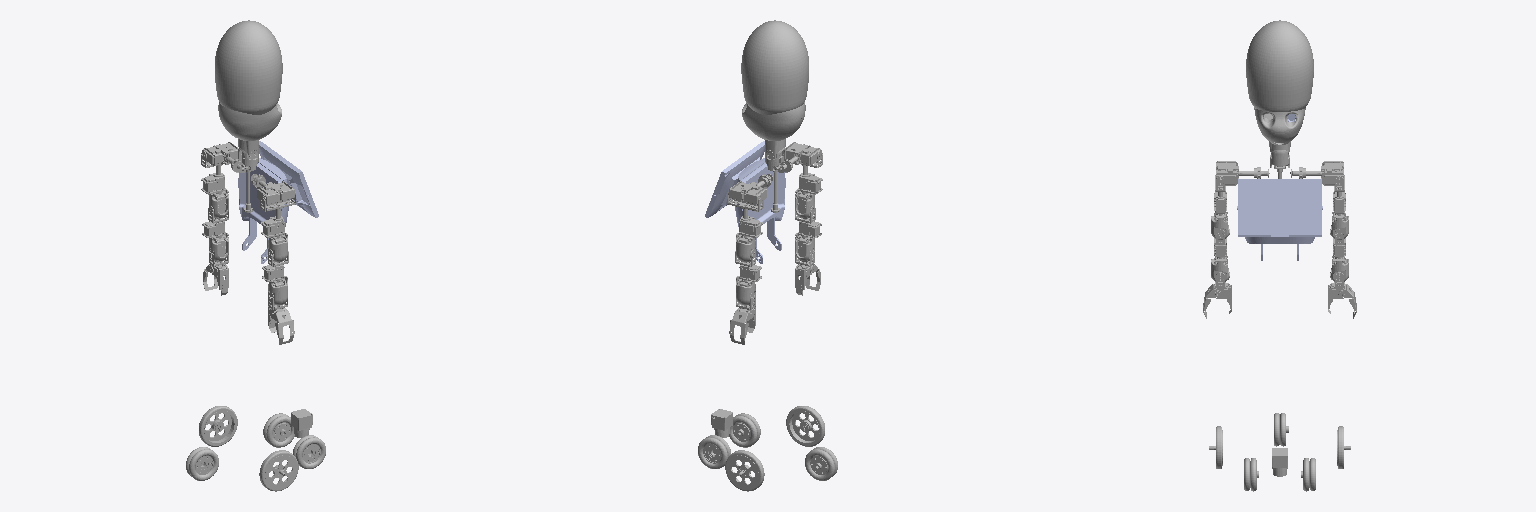
--- Render facts (derived) ---
3 views of the same robot in one strip: view 1: azimuth 30°, elevation 25°; view 2: azimuth 150°, elevation 25°; view 3: azimuth 270°, elevation 25° (orthographic).
Robot: bubot — 27 links, 26 joints (18 revolute, 5 continuous, 3 fixed); root link base_link; default pose: every joint at zero.
Visible links, largest first — view 1: head_pitch_link, tray_link, right_wheel_link, left_wheel_link, rear_wheel_link, right_front_wheel_link, left_front_wheel_link, right_arm_shoulder_pitch_link, right_arm_shoulder_roll_link, left_arm_shoulder_pitch_link, left_arm_shoulder_roll_link; view 2: head_pitch_link, tray_link, left_wheel_link, right_wheel_link, rear_wheel_link, left_front_wheel_link, right_front_wheel_link, left_arm_shoulder_pitch_link, left_arm_shoulder_roll_link, right_arm_shoulder_pitch_link, right_arm_shoulder_roll_link; view 3: head_pitch_link, tray_link, left_arm_shoulder_pitch_link, right_arm_shoulder_pitch_link.
Link boxes in pixels (x1,y1,x2,y2): head_pitch_link: (215,20,282,157); tray_link: (238,141,318,263); right_wheel_link: (259,450,298,491); left_wheel_link: (199,406,237,446); rear_wheel_link: (186,447,218,480); right_front_wheel_link: (293,435,325,468); left_front_wheel_link: (263,413,294,447); right_arm_shoulder_pitch_link: (251,174,294,205); right_arm_shoulder_roll_link: (260,187,295,237); left_arm_shoulder_pitch_link: (202,142,245,172); left_arm_shoulder_roll_link: (201,151,235,194); head_pitch_link: (741,20,808,157); tray_link: (705,141,785,263); left_wheel_link: (725,450,764,491); right_wheel_link: (786,406,824,446); rear_wheel_link: (805,447,837,480); left_front_wheel_link: (698,435,730,468); right_front_wheel_link: (729,413,760,447); left_arm_shoulder_pitch_link: (729,174,772,205); left_arm_shoulder_roll_link: (728,187,763,237); right_arm_shoulder_pitch_link: (778,142,821,172); right_arm_shoulder_roll_link: (788,151,822,194); head_pitch_link: (1246,20,1313,154); tray_link: (1237,179,1322,260); left_arm_shoulder_pitch_link: (1290,161,1343,185); right_arm_shoulder_pitch_link: (1216,161,1269,185).
Size in the robot's own frame: 0.414 by 0.4535 by 1.45 metres.
24 mesh visuals loaded from 27 distinct referenced files (24 binary STL); not drawn: 3 (reference not matched to a file when rendering).

The robot description file, URDF, robot "bubot":
<robot
  name="bubot">
  <link
    name="base_link">
    <inertial>
      <origin
        xyz="0.0060056 0.0012944 0.10706"
        rpy="0 0 0" />
      <mass
        value="17.948" />
      <inertia
        ixx="0.49516"
        ixy="0.00045593"
        ixz="0.019116"
        iyy="0.50261"
        iyz="-0.0018032"
        izz="0.28164" />
    </inertial>
    <visual>
      <origin
        xyz="0 0 0"
        rpy="0 0 0" />
      <geometry>
        <mesh
          filename="package://bubot/meshes/base_link.STL" />
      </geometry>
      <material
        name="">
        <color
          rgba="0.79216 0.81961 0.93333 1" />
      </material>
    </visual>
    <collision>
      <origin
        xyz="0 0 0"
        rpy="0 0 0" />
      <geometry>
        <mesh
          filename="package://bubot/meshes/base_link.STL" />
      </geometry>
    </collision>
  </link>
  <link
    name="left_wheel_link">
    <inertial>
      <origin
        xyz="-1.9163E-14 -1.8329E-10 0.0017023"
        rpy="0 0 0" />
      <mass
        value="0.16038" />
      <inertia
        ixx="0.00020995"
        ixy="1.023E-17"
        ixz="-2.7876E-17"
        iyy="0.00020995"
        iyz="-1.4833E-12"
        izz="0.00040782" />
    </inertial>
    <visual>
      <origin
        xyz="0 0 0"
        rpy="0 0 0" />
      <geometry>
        <mesh
          filename="package://bubot/meshes/left_wheel_link.STL" />
      </geometry>
      <material
        name="">
        <color
          rgba="0.75294 0.75294 0.75294 1" />
      </material>
    </visual>
    <collision>
      <origin
        xyz="0 0 0"
        rpy="0 0 0" />
      <geometry>
        <mesh
          filename="package://bubot/meshes/left_wheel_link.STL" />
      </geometry>
    </collision>
  </link>
  <joint
    name="left_wheel_joint"
    type="continuous">
    <origin
      xyz="0 0.1795 -0.08143"
      rpy="1.5708 0 -3.1416" />
    <parent
      link="base_link" />
    <child
      link="left_wheel_link" />
    <axis
      xyz="0 0 1" />
    <limit
      effort="1"
      velocity="1" />
    <dynamics
      damping="0"
      friction="0" />
    <safety_controller
      k_position="0"
      k_velocity="0" />
  </joint>
  <link
    name="right_wheel_link">
    <inertial>
      <origin
        xyz="-1.9088E-14 -1.8329E-10 0.0017023"
        rpy="0 0 0" />
      <mass
        value="0.16038" />
      <inertia
        ixx="0.00020995"
        ixy="1.023E-17"
        ixz="-2.7866E-17"
        iyy="0.00020995"
        iyz="-1.4833E-12"
        izz="0.00040782" />
    </inertial>
    <visual>
      <origin
        xyz="0 0 0"
        rpy="0 0 0" />
      <geometry>
        <mesh
          filename="package://bubot/meshes/right_wheel_link.STL" />
      </geometry>
      <material
        name="">
        <color
          rgba="0.75294 0.75294 0.75294 1" />
      </material>
    </visual>
    <collision>
      <origin
        xyz="0 0 0"
        rpy="0 0 0" />
      <geometry>
        <mesh
          filename="package://bubot/meshes/right_wheel_link.STL" />
      </geometry>
    </collision>
  </link>
  <joint
    name="right_wheel_joint"
    type="continuous">
    <origin
      xyz="0 -0.1795 -0.08143"
      rpy="1.5708 0 5.1619E-17" />
    <parent
      link="base_link" />
    <child
      link="right_wheel_link" />
    <axis
      xyz="0 0 -1" />
    <limit
      effort="1"
      velocity="1" />
    <dynamics
      damping="0"
      friction="0" />
    <safety_controller
      k_position="0"
      k_velocity="0" />
  </joint>
  <link
    name="left_front_wheel_link">
    <inertial>
      <origin
        xyz="-2.7756E-17 0 -0.0018426"
        rpy="0 0 0" />
      <mass
        value="0.29253" />
      <inertia
        ixx="0.00018232"
        ixy="-8.4893E-21"
        ixz="3.0806E-20"
        iyy="0.00018232"
        iyz="-2.2066E-21"
        izz="0.00031096" />
    </inertial>
    <visual>
      <origin
        xyz="0 0 0"
        rpy="0 0 0" />
      <geometry>
        <mesh
          filename="package://bubot/meshes/left_front_wheel_link.STL" />
      </geometry>
      <material
        name="">
        <color
          rgba="0.75294 0.75294 0.75294 1" />
      </material>
    </visual>
    <collision>
      <origin
        xyz="0 0 0"
        rpy="0 0 0" />
      <geometry>
        <mesh
          filename="package://bubot/meshes/left_front_wheel_link.STL" />
      </geometry>
    </collision>
  </link>
  <joint
    name="left_front_wheel_joint"
    type="continuous">
    <origin
      xyz="0.157 0.0873 -0.09493"
      rpy="1.5708 0 -3.1416" />
    <parent
      link="base_link" />
    <child
      link="left_front_wheel_link" />
    <axis
      xyz="0 0 1" />
    <dynamics
      damping="0"
      friction="0" />
  </joint>
  <link
    name="right_front_wheel_link">
    <inertial>
      <origin
        xyz="0 1.3878E-17 -0.0018426"
        rpy="0 0 0" />
      <mass
        value="0.29253" />
      <inertia
        ixx="0.00018232"
        ixy="-8.0805E-21"
        ixz="-1.2719E-22"
        iyy="0.00018232"
        iyz="-1.2317E-21"
        izz="0.00031096" />
    </inertial>
    <visual>
      <origin
        xyz="0 0 0"
        rpy="0 0 0" />
      <geometry>
        <mesh
          filename="package://bubot/meshes/right_front_wheel_link.STL" />
      </geometry>
      <material
        name="">
        <color
          rgba="0.75294 0.75294 0.75294 1" />
      </material>
    </visual>
    <collision>
      <origin
        xyz="0 0 0"
        rpy="0 0 0" />
      <geometry>
        <mesh
          filename="package://bubot/meshes/right_front_wheel_link.STL" />
      </geometry>
    </collision>
  </link>
  <joint
    name="right_front_wheel_joint"
    type="continuous">
    <origin
      xyz="0.157 -0.0873 -0.09493"
      rpy="1.5708 0 0" />
    <parent
      link="base_link" />
    <child
      link="right_front_wheel_link" />
    <axis
      xyz="0 0 -1" />
    <dynamics
      damping="0"
      friction="0" />
  </joint>
  <link
    name="rear_wheel_link">
    <inertial>
      <origin
        xyz="-2.7756E-17 1.3878E-17 0.0018426"
        rpy="0 0 0" />
      <mass
        value="0.29253" />
      <inertia
        ixx="0.00018232"
        ixy="5.7276E-21"
        ixz="-3.5642E-20"
        iyy="0.00018232"
        iyz="2.7598E-20"
        izz="0.00031096" />
    </inertial>
    <visual>
      <origin
        xyz="0 0 0"
        rpy="0 0 0" />
      <geometry>
        <mesh
          filename="package://bubot/meshes/rear_wheel_link.STL" />
      </geometry>
      <material
        name="">
        <color
          rgba="0.75294 0.75294 0.75294 1" />
      </material>
    </visual>
    <collision>
      <origin
        xyz="0 0 0"
        rpy="0 0 0" />
      <geometry>
        <mesh
          filename="package://bubot/meshes/rear_wheel_link.STL" />
      </geometry>
    </collision>
  </link>
  <joint
    name="rear_wheel_joint"
    type="continuous">
    <origin
      xyz="-0.157 0 -0.09493"
      rpy="1.5708 0 3.1416" />
    <parent
      link="base_link" />
    <child
      link="rear_wheel_link" />
    <axis
      xyz="0 0 1" />
    <dynamics
      damping="0"
      friction="0" />
  </joint>
  <link
    name="front_laser_mountpoint_link">
    <inertial>
      <origin
        xyz="-7.8883E-05 -5.6061E-05 -0.031605"
        rpy="0 0 0" />
      <mass
        value="0.14229" />
      <inertia
        ixx="7.9975E-05"
        ixy="7.5633E-08"
        ixz="2.6339E-08"
        iyy="8.0169E-05"
        iyz="1.9908E-07"
        izz="4.9028E-05" />
    </inertial>
    <visual>
      <origin
        xyz="0 0 0"
        rpy="0 0 0" />
      <geometry>
        <mesh
          filename="package://bubot/meshes/front_laser_mountpoint_link.STL" />
      </geometry>
      <material
        name="">
        <color
          rgba="0.75294 0.75294 0.75294 1" />
      </material>
    </visual>
    <collision>
      <origin
        xyz="0 0 0"
        rpy="0 0 0" />
      <geometry>
        <mesh
          filename="package://bubot/meshes/front_laser_mountpoint_link.STL" />
      </geometry>
    </collision>
  </link>
  <joint
    name="front_laser_mountpoint_joint"
    type="fixed">
    <origin
      xyz="0.181 0 -0.01"
      rpy="-1.5177E-16 3.4738E-16 -5.3596E-15" />
    <parent
      link="base_link" />
    <child
      link="front_laser_mountpoint_link" />
    <axis
      xyz="0 0 0" />
  </joint>
  <link
    name="torso_yaw_link">
    <inertial>
      <origin
        xyz="-0.021184 3.706E-05 0.13425"
        rpy="0 0 0" />
      <mass
        value="15.384" />
      <inertia
        ixx="0.50207"
        ixy="-4.4759E-06"
        ixz="-0.036488"
        iyy="0.46607"
        iyz="9.7091E-05"
        izz="0.12009" />
    </inertial>
    <visual>
      <origin
        xyz="0 0 0"
        rpy="0 0 0" />
      <geometry>
        <mesh
          filename="package://bubot/meshes/torso_yaw_link.STL" />
      </geometry>
      <material
        name="">
        <color
          rgba="0.79216 0.81961 0.93333 1" />
      </material>
    </visual>
    <collision>
      <origin
        xyz="0 0 0"
        rpy="0 0 0" />
      <geometry>
        <mesh
          filename="package://bubot/meshes/torso_yaw_link.STL" />
      </geometry>
    </collision>
  </link>
  <joint
    name="torso_yaw_joint"
    type="revolute">
    <origin
      xyz="0 0 0.5265"
      rpy="6.9887E-17 0 0" />
    <parent
      link="base_link" />
    <child
      link="torso_yaw_link" />
    <axis
      xyz="0 0 1" />
    <limit
      lower="-1.5708"
      upper="1.5708"
      effort="1"
      velocity="1" />
    <dynamics
      damping="0"
      friction="0" />
    <safety_controller
      soft_upper="1.5708"
      soft_lower="-1.5708"
      k_position="0"
      k_velocity="0" />
  </joint>
  <link
    name="tray_link">
    <inertial>
      <origin
        xyz="0.18048 0.062172 0.00072834"
        rpy="0 0 0" />
      <mass
        value="2.9807" />
      <inertia
        ixx="0.014224"
        ixy="-0.001329"
        ixz="-5.3726E-05"
        iyy="0.019495"
        iyz="-7.4868E-05"
        izz="0.011613" />
    </inertial>
    <visual>
      <origin
        xyz="0 0 0"
        rpy="0 0 0" />
      <geometry>
        <mesh
          filename="package://bubot/meshes/tray_link.STL" />
      </geometry>
      <material
        name="">
        <color
          rgba="0.79216 0.81961 0.93333 1" />
      </material>
    </visual>
    <collision>
      <origin
        xyz="0 0 0"
        rpy="0 0 0" />
      <geometry>
        <mesh
          filename="package://bubot/meshes/tray_link.STL" />
      </geometry>
    </collision>
  </link>
  <joint
    name="tray_joint"
    type="revolute">
    <origin
      xyz="0.02548 0 0.028"
      rpy="-1.5708 -1.5708 0" />
    <parent
      link="torso_yaw_link" />
    <child
      link="tray_link" />
    <axis
      xyz="0 0 1" />
    <limit
      lower="0"
      upper="1.5708"
      effort="1"
      velocity="1" />
    <dynamics
      damping="0"
      friction="0" />
    <safety_controller
      soft_upper="1.5708"
      soft_lower="0"
      k_position="0"
      k_velocity="0" />
  </joint>
  <link
    name="head_yaw_link">
    <inertial>
      <origin
        xyz="0.0016155 -3.2919E-05 0.0099766"
        rpy="0 0 0" />
      <mass
        value="0.18647" />
      <inertia
        ixx="0.0007178"
        ixy="-1.2143E-08"
        ixz="-9.3422E-06"
        iyy="0.00071091"
        iyz="-1.3067E-07"
        izz="5.101E-05" />
    </inertial>
    <visual>
      <origin
        xyz="0 0 0"
        rpy="0 0 0" />
      <geometry>
        <mesh
          filename="package://bubot/meshes/head_yaw_link.STL" />
      </geometry>
      <material
        name="">
        <color
          rgba="0.75294 0.75294 0.75294 1" />
      </material>
    </visual>
    <collision>
      <origin
        xyz="0 0 0"
        rpy="0 0 0" />
      <geometry>
        <mesh
          filename="package://bubot/meshes/head_yaw_link.STL" />
      </geometry>
    </collision>
  </link>
  <joint
    name="head_yaw_joint"
    type="revolute">
    <origin
      xyz="0 0 0.30737"
      rpy="-1.0768E-14 -6.4549E-15 1.2056E-16" />
    <parent
      link="torso_yaw_link" />
    <child
      link="head_yaw_link" />
    <axis
      xyz="0 0 1" />
    <limit
      lower="-1.5708"
      upper="1.5708"
      effort="1"
      velocity="1" />
    <dynamics
      damping="0"
      friction="0" />
    <safety_controller
      soft_upper="1.5708"
      soft_lower="-1.5708"
      k_position="0"
      k_velocity="0" />
  </joint>
  <link
    name="head_pitch_link">
    <inertial>
      <origin
        xyz="0.25102 0.0013554 -0.00012288"
        rpy="0 0 0" />
      <mass
        value="5.5892" />
      <inertia
        ixx="0.028845"
        ixy="0.0013948"
        ixz="-5.5005E-05"
        iyy="0.061422"
        iyz="-9.1334E-06"
        izz="0.062798" />
    </inertial>
    <visual>
      <origin
        xyz="0 0 0"
        rpy="0 0 0" />
      <geometry>
        <mesh
          filename="package://bubot/meshes/head_pitch_link.STL" />
      </geometry>
      <material
        name="">
        <color
          rgba="0.75294 0.75294 0.75294 1" />
      </material>
    </visual>
    <collision>
      <origin
        xyz="0 0 0"
        rpy="0 0 0" />
      <geometry>
        <mesh
          filename="package://bubot/meshes/head_pitch_link.STL" />
      </geometry>
    </collision>
  </link>
  <joint
    name="head_pitch_joint"
    type="revolute">
    <origin
      xyz="0 0 0.0545"
      rpy="-1.5708 -1.5708 0" />
    <parent
      link="head_yaw_link" />
    <child
      link="head_pitch_link" />
    <axis
      xyz="0 0 1" />
    <limit
      lower="-1.5708"
      upper="1.5708"
      effort="1"
      velocity="1" />
    <dynamics
      damping="0"
      friction="0" />
    <safety_controller
      soft_upper="1.5708"
      soft_lower="-1.5708"
      k_position="0"
      k_velocity="0" />
  </joint>
  <link
    name="left_camera_link">
    <inertial>
      <origin
        xyz="-0.0031287 5.7933E-09 -0.0015198"
        rpy="0 0 3.14159265359" />
      <mass
        value="0.040493" />
      <inertia
        ixx="5.3E-06"
        ixy="3.0082E-12"
        ixz="-4.2097E-07"
        iyy="1.3095E-05"
        iyz="2.9511E-12"
        izz="1.1942E-05" />
    </inertial>
    <visual>
      <origin
        xyz="0 0 0"
        rpy="0 0 0" />
      <geometry>
        <mesh
          filename="package://bubot/meshes/left_camera_link.STL" />
      </geometry>
      <material
        name="">
        <color
          rgba="0.79216 0.81961 0.93333 1" />
      </material>
    </visual>
    <collision>
      <origin
        xyz="0 0 0"
        rpy="0 0 0" />
      <geometry>
        <mesh
          filename="package://bubot/meshes/left_camera_link.STL" />
      </geometry>
    </collision>
  </link>
  <joint
    name="left_camera_joint"
    type="fixed">
    <origin
      xyz="0.13677 0.0399 0.034249"
      rpy="1.5708 -1.0617E-14 1.5708" />
    <parent
      link="head_pitch_link" />
    <child
      link="left_camera_link" />
    <axis
      xyz="0 0 0" />
  </joint>
  <link
    name="right_camera_link">
    <inertial>
      <origin
        xyz="-0.0031287 5.7933E-09 -0.0015198"
        rpy="0 0 3.14159265359" />
      <mass
        value="0.040493" />
      <inertia
        ixx="5.3E-06"
        ixy="3.0082E-12"
        ixz="-4.2097E-07"
        iyy="1.3095E-05"
        iyz="2.9511E-12"
        izz="1.1942E-05" />
    </inertial>
    <visual>
      <origin
        xyz="0 0 0"
        rpy="0 0 0" />
      <geometry>
        <mesh
          filename="package://bubot/meshes/right_camera_link.STL" />
      </geometry>
      <material
        name="">
        <color
          rgba="0.79216 0.81961 0.93333 1" />
      </material>
    </visual>
    <collision>
      <origin
        xyz="0 0 0"
        rpy="0 0 0" />
      <geometry>
        <mesh
          filename="package://bubot/meshes/right_camera_link.STL" />
      </geometry>
    </collision>
  </link>
  <joint
    name="right_camera_joint"
    type="fixed">
    <origin
      xyz="0.13677 0.0399 -0.034249"
      rpy="1.5708 -1.0617E-14 1.5708" />
    <parent
      link="head_pitch_link" />
    <child
      link="right_camera_link" />
    <axis
      xyz="0 0 0" />
  </joint>
  <link
    name="left_arm_shoulder_pitch_link">
    <inertial>
      <origin
        xyz="-2.122E-05 2.4768E-06 -0.041341"
        rpy="0 0 0" />
      <mass
        value="0.29178" />
      <inertia
        ixx="0.0005532"
        ixy="-8.0349E-09"
        ixz="-4.1962E-07"
        iyy="0.00066579"
        iyz="4.5355E-08"
        izz="0.0001665" />
    </inertial>
    <visual>
      <origin
        xyz="0 0 0"
        rpy="0 0 0" />
      <geometry>
        <mesh
          filename="package://bubot/meshes/left_arm_shoulder_pitch_link.STL" />
      </geometry>
      <material
        name="">
        <color
          rgba="0.75294 0.75294 0.75294 1" />
      </material>
    </visual>
    <collision>
      <origin
        xyz="0 0 0"
        rpy="0 0 0" />
      <geometry>
        <mesh
          filename="package://bubot/meshes/left_arm_shoulder_pitch_link.STL" />
      </geometry>
    </collision>
  </link>
  <joint
    name="left_arm_shoulder_pitch_joint"
    type="revolute">
    <origin
      xyz="0 0.17524 0.28577"
      rpy="-1.5708 -1.1297E-30 1.6342E-16" />
    <parent
      link="torso_yaw_link" />
    <child
      link="left_arm_shoulder_pitch_link" />
    <axis
      xyz="0 0 1" />
    <limit
      lower="-1.5708"
      upper="1.5708"
      effort="1"
      velocity="1" />
    <dynamics
      damping="0"
      friction="0" />
    <safety_controller
      soft_upper="1.5708"
      soft_lower="-1.5708"
      k_position="0"
      k_velocity="0" />
  </joint>
  <link
    name="left_arm_shoulder_roll_link">
    <inertial>
      <origin
        xyz="0.074935 1.8521E-06 -0.0093573"
        rpy="0 0 0" />
      <mass
        value="0.14822" />
      <inertia
        ixx="0.00010843"
        ixy="-5.875E-09"
        ixz="3.5714E-05"
        iyy="0.00028771"
        iyz="4.4939E-10"
        izz="0.00020531" />
    </inertial>
    <visual>
      <origin
        xyz="0 0 0"
        rpy="0 0 0" />
      <geometry>
        <mesh
          filename="package://bubot/meshes/left_arm_shoulder_roll_link.STL" />
      </geometry>
      <material
        name="">
        <color
          rgba="0.75294 0.75294 0.75294 1" />
      </material>
    </visual>
    <collision>
      <origin
        xyz="0 0 0"
        rpy="0 0 0" />
      <geometry>
        <mesh
          filename="package://bubot/meshes/left_arm_shoulder_roll_link.STL" />
      </geometry>
    </collision>
  </link>
  <joint
    name="left_arm_shoulder_roll_joint"
    type="revolute">
    <origin
      xyz="0 0 0"
      rpy="1.5708 8.1332E-14 1.5708" />
    <parent
      link="left_arm_shoulder_pitch_link" />
    <child
      link="left_arm_shoulder_roll_link" />
    <axis
      xyz="0 0 1" />
    <limit
      lower="-0.8"
      upper="1.5708"
      effort="1"
      velocity="1" />
    <dynamics
      damping="0"
      friction="0" />
    <safety_controller
      soft_upper="1.5708"
      soft_lower="-0.8"
      k_position="0"
      k_velocity="0" />
  </joint>
  <link
    name="left_arm_shoulder_yaw_link">
    <inertial>
      <origin
        xyz="-4.019E-05 -0.0019724 0.038913"
        rpy="0 0 0" />
      <mass
        value="0.15273" />
      <inertia
        ixx="0.00010879"
        ixy="1.4334E-08"
        ixz="-2.9294E-07"
        iyy="0.00011571"
        iyz="1.3784E-06"
        izz="5.0354E-05" />
    </inertial>
    <visual>
      <origin
        xyz="0 0 0"
        rpy="0 0 0" />
      <geometry>
        <mesh
          filename="package://bubot/meshes/left_arm_shoulder_yaw_link.STL" />
      </geometry>
      <material
        name="">
        <color
          rgba="0.75294 0.75294 0.75294 1" />
      </material>
    </visual>
    <collision>
      <origin
        xyz="0 0 0"
        rpy="0 0 0" />
      <geometry>
        <mesh
          filename="package://bubot/meshes/left_arm_shoulder_yaw_link.STL" />
      </geometry>
    </collision>
  </link>
  <joint
    name="left_arm_shoulder_yaw_joint"
    type="revolute">
    <origin
      xyz="0.1284 0 0"
      rpy="3.14159265359 -1.5708 0" />
    <parent
      link="left_arm_shoulder_roll_link" />
    <child
      link="left_arm_shoulder_yaw_link" />
    <axis
      xyz="0 0 -1" />
    <limit
      lower="-1.5708"
      upper="1.5708"
      effort="1"
      velocity="1" />
    <dynamics
      damping="0"
      friction="0" />
    <safety_controller
      soft_upper="1.5708"
      soft_lower="-1.5708"
      k_position="0"
      k_velocity="0" />
  </joint>
  <link
    name="left_arm_elbow_roll_link">
    <inertial>
      <origin
        xyz="0.055421 -1.7469E-07 -0.013348"
        rpy="0 0 0" />
      <mass
        value="0.22514" />
      <inertia
        ixx="9.0356E-05"
        ixy="-5.4289E-10"
        ixz="1.6021E-05"
        iyy="0.00015029"
        iyz="2.451E-10"
        izz="9.9881E-05" />
    </inertial>
    <visual>
      <origin
        xyz="0 0 0"
        rpy="0 0 0" />
      <geometry>
        <mesh
          filename="package://bubot/meshes/left_arm_elbow_roll_link.STL" />
      </geometry>
      <material
        name="">
        <color
          rgba="0.75294 0.75294 0.75294 1" />
      </material>
    </visual>
    <collision>
      <origin
        xyz="0 0 0"
        rpy="0 0 0" />
      <geometry>
        <mesh
          filename="package://bubot/meshes/left_arm_elbow_roll_link.STL" />
      </geometry>
    </collision>
  </link>
  <joint
    name="left_arm_elbow_roll_joint"
    type="revolute">
    <origin
      xyz="0 0 0.057"
      rpy="3.14159265359 -1.5708 0" />
    <parent
      link="left_arm_shoulder_yaw_link" />
    <child
      link="left_arm_elbow_roll_link" />
    <axis
      xyz="0 0 1" />
    <limit
      lower="-1.5708"
      upper="1.5708"
      effort="1"
      velocity="1" />
    <dynamics
      damping="0"
      friction="0" />
    <safety_controller
      soft_upper="1.5708"
      soft_lower="-1.5708"
      k_position="0"
      k_velocity="0" />
  </joint>
  <link
    name="left_arm_forearm_yaw_link">
    <inertial>
      <origin
        xyz="-6.6971E-05 -0.0011647 0.037801"
        rpy="0 0 0" />
      <mass
        value="0.25891" />
      <inertia
        ixx="0.00013931"
        ixy="2.0254E-08"
        ixz="-7.1562E-07"
        iyy="0.00014955"
        iyz="9.416E-07"
        izz="7.1991E-05" />
    </inertial>
    <visual>
      <origin
        xyz="0 0 0"
        rpy="0 0 0" />
      <geometry>
        <mesh
          filename="package://bubot/meshes/left_arm_forearm_yaw_link.STL" />
      </geometry>
      <material
        name="">
        <color
          rgba="0.75294 0.75294 0.75294 1" />
      </material>
    </visual>
    <collision>
      <origin
        xyz="0 0 0"
        rpy="0 0 0" />
      <geometry>
        <mesh
          filename="package://bubot/meshes/left_arm_forearm_yaw_link.STL" />
      </geometry>
    </collision>
  </link>
  <joint
    name="left_arm_forearm_yaw_joint"
    type="revolute">
    <origin
      xyz="0.0859 0 0"
      rpy="3.14159265359 -1.5708 0" />
    <parent
      link="left_arm_elbow_roll_link" />
    <child
      link="left_arm_forearm_yaw_link" />
    <axis
      xyz="0 0 -1" />
    <limit
      lower="-1.5708"
      upper="1.5708"
      effort="1"
      velocity="1" />
    <dynamics
      damping="0"
      friction="0" />
    <safety_controller
      soft_upper="1.5708"
      soft_lower="-1.5708"
      k_position="0"
      k_velocity="0" />
  </joint>
  <link
    name="left_arm_wrist_roll_link">
    <inertial>
      <origin
        xyz="0.052471 -0.0052782 -5.4707E-05"
        rpy="0 0 0" />
      <mass
        value="0.16057" />
      <inertia
        ixx="5.9955E-05"
        ixy="1.5477E-05"
        ixz="-2.4925E-07"
        iyy="9.4951E-05"
        iyz="-4.601E-07"
        izz="0.00010267" />
    </inertial>
    <visual>
      <origin
        xyz="0 0 0"
        rpy="0 0 0" />
      <geometry>
        <mesh
          filename="package://bubot/meshes/left_arm_wrist_roll_link.STL" />
      </geometry>
      <material
        name="">
        <color
          rgba="0.75294 0.75294 0.75294 1" />
      </material>
    </visual>
    <collision>
      <origin
        xyz="0 0 0"
        rpy="0 0 0" />
      <geometry>
        <mesh
          filename="package://bubot/meshes/left_arm_wrist_roll_link.STL" />
      </geometry>
    </collision>
  </link>
  <joint
    name="left_arm_wrist_roll_joint"
    type="revolute">
    <origin
      xyz="0 0 0.0545"
      rpy="3.14159265359 -1.5708 0" />
    <parent
      link="left_arm_forearm_yaw_link" />
    <child
      link="left_arm_wrist_roll_link" />
    <axis
      xyz="0 0 1" />
    <limit
      lower="-1.5708"
      upper="1.5708"
      effort="1"
      velocity="1" />
    <dynamics
      damping="0"
      friction="0" />
    <safety_controller
      soft_upper="1.5708"
      soft_lower="-1.5708"
      k_position="0"
      k_velocity="0" />
  </joint>
  <link
    name="left_gripper_link">
    <inertial>
      <origin
        xyz="0.033325 0.0061458 -0.00099123"
        rpy="0 0 0" />
      <mass
        value="0.025912" />
      <inertia
        ixx="1.3172E-05"
        ixy="4.9505E-06"
        ixz="-8.5595E-07"
        iyy="2.8112E-05"
        iyz="-1.5785E-07"
        izz="2.2617E-05" />
    </inertial>
    <visual>
      <origin
        xyz="0 0 0"
        rpy="0 0 0" />
      <geometry>
        <mesh
          filename="package://bubot/meshes/left_gripper_link.STL" />
      </geometry>
      <material
        name="">
        <color
          rgba="0.75294 0.75294 0.75294 1" />
      </material>
    </visual>
    <collision>
      <origin
        xyz="0 0 0"
        rpy="0 0 0" />
      <geometry>
        <mesh
          filename="package://bubot/meshes/left_gripper_link.STL" />
      </geometry>
    </collision>
  </link>
  <joint
    name="left_gripper_joint"
    type="revolute">
    <origin
      xyz="0.057 0.008 0.0001"
      rpy="-1.1824E-14 4.9751E-17 0.69813" />
    <parent
      link="left_arm_wrist_roll_link" />
    <child
      link="left_gripper_link" />
    <axis
      xyz="0 0 1" />
    <limit
      lower="-1.5708"
      upper="0"
      effort="1"
      velocity="1" />
    <dynamics
      damping="0"
      friction="0" />
    <safety_controller
      soft_upper="0"
      soft_lower="-1.5708"
      k_position="0"
      k_velocity="0" />
  </joint>
  <link
    name="right_arm_shoulder_pitch_link">
    <inertial>
      <origin
        xyz="-2.122E-05 2.4768E-06 -0.041341"
        rpy="0 0 0" />
      <mass
        value="0.29178" />
      <inertia
        ixx="0.0005532"
        ixy="-8.0349E-09"
        ixz="-4.1962E-07"
        iyy="0.00066579"
        iyz="4.5355E-08"
        izz="0.0001665" />
    </inertial>
    <visual>
      <origin
        xyz="0 0 0"
        rpy="0 0 0" />
      <geometry>
        <mesh
          filename="package://bubot/meshes/right_arm_shoulder_pitch_link.STL" />
      </geometry>
      <material
        name="">
        <color
          rgba="0.75294 0.75294 0.75294 1" />
      </material>
    </visual>
    <collision>
      <origin
        xyz="0 0 0"
        rpy="0 0 0" />
      <geometry>
        <mesh
          filename="package://bubot/meshes/right_arm_shoulder_pitch_link.STL" />
      </geometry>
    </collision>
  </link>
  <joint
    name="right_arm_shoulder_pitch_joint"
    type="revolute">
    <origin
      xyz="0 -0.17524 0.28577"
      rpy="1.5708 -2.1077E-15 -7.7314E-16" />
    <parent
      link="torso_yaw_link" />
    <child
      link="right_arm_shoulder_pitch_link" />
    <axis
      xyz="0 0 -1" />
    <limit
      lower="-1.5708"
      upper="1.5708"
      effort="1"
      velocity="1" />
    <dynamics
      damping="0"
      friction="0" />
    <safety_controller
      soft_upper="1.5708"
      soft_lower="-1.5708"
      k_position="0"
      k_velocity="0" />
  </joint>
  <link
    name="right_arm_shoulder_roll_link">
    <inertial>
      <origin
        xyz="0.074935 1.8525E-06 -0.0093573"
        rpy="0 0 0" />
      <mass
        value="0.14822" />
      <inertia
        ixx="0.00010843"
        ixy="-5.8706E-09"
        ixz="3.5714E-05"
        iyy="0.00028771"
        iyz="4.4884E-10"
        izz="0.00020531" />
    </inertial>
    <visual>
      <origin
        xyz="0 0 0"
        rpy="0 0 0" />
      <geometry>
        <mesh
          filename="package://bubot/meshes/right_arm_shoulder_roll_link.STL" />
      </geometry>
      <material
        name="">
        <color
          rgba="0.75294 0.75294 0.75294 1" />
      </material>
    </visual>
    <collision>
      <origin
        xyz="0 0 0"
        rpy="0 0 0" />
      <geometry>
        <mesh
          filename="package://bubot/meshes/right_arm_shoulder_roll_link.STL" />
      </geometry>
    </collision>
  </link>
  <joint
    name="right_arm_shoulder_roll_joint"
    type="revolute">
    <origin
      xyz="0 0 0"
      rpy="-1.5708 -7.4349E-14 -1.5708" />
    <parent
      link="right_arm_shoulder_pitch_link" />
    <child
      link="right_arm_shoulder_roll_link" />
    <axis
      xyz="0 0 1" />
    <limit
      lower="-1.5708"
      upper="0"
      effort="1"
      velocity="1" />
    <dynamics
      damping="0"
      friction="0" />
    <safety_controller
      soft_upper="0"
      soft_lower="-1.5708"
      k_position="0"
      k_velocity="0" />
  </joint>
  <link
    name="right_arm_shoulder_yaw_link">
    <inertial>
      <origin
        xyz="-2.5442E-05 0.0019765 0.038913"
        rpy="0 0 0" />
      <mass
        value="0.15273" />
      <inertia
        ixx="0.00010878"
        ixy="-5.4534E-09"
        ixz="-3.9552E-07"
        iyy="0.00011571"
        iyz="-1.3831E-06"
        izz="5.0351E-05" />
    </inertial>
    <visual>
      <origin
        xyz="0 0 0"
        rpy="0 0 0" />
      <geometry>
        <mesh
          filename="package://bubot/meshes/right_arm_shoulder_yaw_link.STL" />
      </geometry>
      <material
        name="">
        <color
          rgba="0.75294 0.75294 0.75294 1" />
      </material>
    </visual>
    <collision>
      <origin
        xyz="0 0 0"
        rpy="0 0 0" />
      <geometry>
        <mesh
          filename="package://bubot/meshes/right_arm_shoulder_yaw_link.STL" />
      </geometry>
    </collision>
  </link>
  <joint
    name="right_arm_shoulder_yaw_joint"
    type="revolute">
    <origin
      xyz="0.1284 0 0"
      rpy="3.14159265359 -1.5708 0" />
    <parent
      link="right_arm_shoulder_roll_link" />
    <child
      link="right_arm_shoulder_yaw_link" />
    <axis
      xyz="0 0 -1" />
    <limit
      lower="-1.5708"
      upper="1.5708"
      effort="1"
      velocity="1" />
    <dynamics
      damping="0"
      friction="0" />
    <safety_controller
      soft_upper="1.5708"
      soft_lower="-1.5708"
      k_position="0"
      k_velocity="0" />
  </joint>
  <link
    name="right_arm_elbow_roll_link">
    <inertial>
      <origin
        xyz="0.055421 -1.7469E-07 -0.013348"
        rpy="0 0 0" />
      <mass
        value="0.22514" />
      <inertia
        ixx="9.0356E-05"
        ixy="-5.4289E-10"
        ixz="1.6021E-05"
        iyy="0.00015029"
        iyz="2.451E-10"
        izz="9.9881E-05" />
    </inertial>
    <visual>
      <origin
        xyz="0 0 0"
        rpy="0 0 0" />
      <geometry>
        <mesh
          filename="package://bubot/meshes/right_arm_elbow_roll_link.STL" />
      </geometry>
      <material
        name="">
        <color
          rgba="0.75294 0.75294 0.75294 1" />
      </material>
    </visual>
    <collision>
      <origin
        xyz="0 0 0"
        rpy="0 0 0" />
      <geometry>
        <mesh
          filename="package://bubot/meshes/right_arm_elbow_roll_link.STL" />
      </geometry>
    </collision>
  </link>
  <joint
    name="right_arm_elbow_roll_joint"
    type="revolute">
    <origin
      xyz="0 0 0.057"
      rpy="3.14159265359 -1.5708 0" />
    <parent
      link="right_arm_shoulder_yaw_link" />
    <child
      link="right_arm_elbow_roll_link" />
    <axis
      xyz="0 0 1" />
    <limit
      lower="-1.5708"
      upper="1.5708"
      effort="1"
      velocity="1" />
    <dynamics
      damping="0"
      friction="0" />
    <safety_controller
      soft_upper="1.5708"
      soft_lower="-1.5708"
      k_position="0"
      k_velocity="0" />
  </joint>
  <link
    name="right_arm_forearm_yaw_link">
    <inertial>
      <origin
        xyz="-5.8271E-05 0.0011647 0.037801"
        rpy="0 0 0" />
      <mass
        value="0.25891" />
      <inertia
        ixx="0.00013931"
        ixy="-1.7513E-08"
        ixz="-8.1508E-07"
        iyy="0.00014955"
        iyz="-9.416E-07"
        izz="7.1991E-05" />
    </inertial>
    <visual>
      <origin
        xyz="0 0 0"
        rpy="0 0 0" />
      <geometry>
        <mesh
          filename="package://bubot/meshes/right_arm_forearm_yaw_link.STL" />
      </geometry>
      <material
        name="">
        <color
          rgba="0.75294 0.75294 0.75294 1" />
      </material>
    </visual>
    <collision>
      <origin
        xyz="0 0 0"
        rpy="0 0 0" />
      <geometry>
        <mesh
          filename="package://bubot/meshes/right_arm_forearm_yaw_link.STL" />
      </geometry>
    </collision>
  </link>
  <joint
    name="right_arm_forearm_yaw_joint"
    type="revolute">
    <origin
      xyz="0.0859 0 0"
      rpy="3.14159265359 -1.5708 0" />
    <parent
      link="right_arm_elbow_roll_link" />
    <child
      link="right_arm_forearm_yaw_link" />
    <axis
      xyz="0 0 -1" />
    <limit
      lower="-1.5708"
      upper="1.5708"
      effort="1"
      velocity="1" />
    <dynamics
      damping="0"
      friction="0" />
    <safety_controller
      soft_upper="1.5708"
      soft_lower="-1.5708"
      k_position="0"
      k_velocity="0" />
  </joint>
  <link
    name="right_arm_wrist_roll_link">
    <inertial>
      <origin
        xyz="0.052471 0.0052782 -5.4708E-05"
        rpy="0 0 0" />
      <mass
        value="0.16057" />
      <inertia
        ixx="5.9955E-05"
        ixy="-1.5477E-05"
        ixz="-2.4926E-07"
        iyy="9.4951E-05"
        iyz="4.601E-07"
        izz="0.00010267" />
    </inertial>
    <visual>
      <origin
        xyz="0 0 0"
        rpy="0 0 0" />
      <geometry>
        <mesh
          filename="package://bubot/meshes/right_arm_wrist_roll_link.STL" />
      </geometry>
      <material
        name="">
        <color
          rgba="0.75294 0.75294 0.75294 1" />
      </material>
    </visual>
    <collision>
      <origin
        xyz="0 0 0"
        rpy="0 0 0" />
      <geometry>
        <mesh
          filename="package://bubot/meshes/right_arm_wrist_roll_link.STL" />
      </geometry>
    </collision>
  </link>
  <joint
    name="right_arm_wrist_roll_joint"
    type="revolute">
    <origin
      xyz="0 0 0.0545"
      rpy="3.14159265359 -1.5708 0" />
    <parent
      link="right_arm_forearm_yaw_link" />
    <child
      link="right_arm_wrist_roll_link" />
    <axis
      xyz="0 0 1" />
    <limit
      lower="-1.5708"
      upper="1.5708"
      effort="1"
      velocity="1" />
    <dynamics
      damping="0"
      friction="0" />
    <safety_controller
      soft_upper="1.5708"
      soft_lower="-1.5708"
      k_position="0"
      k_velocity="0" />
  </joint>
  <link
    name="right_gripper_link">
    <inertial>
      <origin
        xyz="0.033325 -0.0061458 -0.00099123"
        rpy="0 0 0" />
      <mass
        value="0.025912" />
      <inertia
        ixx="1.3172E-05"
        ixy="-4.9505E-06"
        ixz="-8.5595E-07"
        iyy="2.8112E-05"
        iyz="1.5785E-07"
        izz="2.2617E-05" />
    </inertial>
    <visual>
      <origin
        xyz="0 0 0"
        rpy="0 0 0" />
      <geometry>
        <mesh
          filename="package://bubot/meshes/right_gripper_link.STL" />
      </geometry>
      <material
        name="">
        <color
          rgba="0.75294 0.75294 0.75294 1" />
      </material>
    </visual>
    <collision>
      <origin
        xyz="0 0 0"
        rpy="0 0 0" />
      <geometry>
        <mesh
          filename="package://bubot/meshes/right_gripper_link.STL" />
      </geometry>
    </collision>
  </link>
  <joint
    name="right_gripper_joint"
    type="revolute">
    <origin
      xyz="0.057 -0.008 0.0001"
      rpy="7.7276E-16 -1.2947E-14 -0.69813" />
    <parent
      link="right_arm_wrist_roll_link" />
    <child
      link="right_gripper_link" />
    <axis
      xyz="0 0 1" />
    <limit
      lower="0"
      upper="1.5708"
      effort="1"
      velocity="1" />
    <dynamics
      damping="0"
      friction="0" />
    <safety_controller
      soft_upper="1.5708"
      soft_lower="0"
      k_position="0"
      k_velocity="0" />
  </joint>
</robot>
